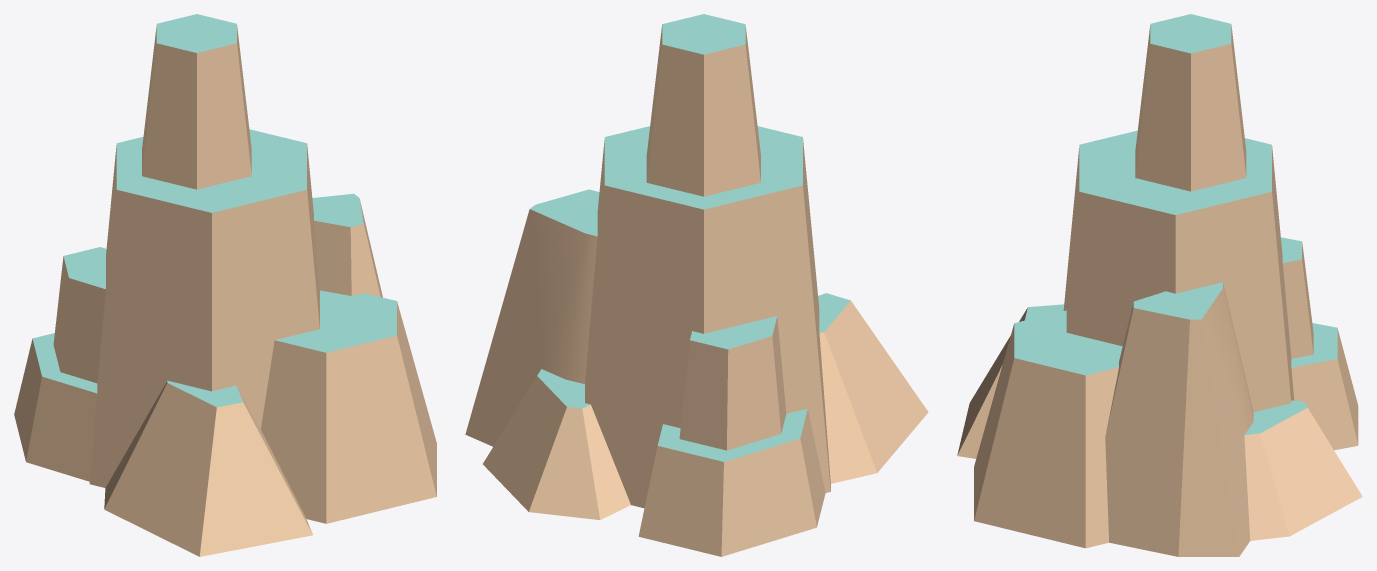
File: rock_tall2.glb
The picture shows the model from 3 angles, left to right: view 1: azimuth 30°, elevation 25°; view 2: azimuth 150°, elevation 25°; view 3: azimuth 270°, elevation 25°; orthographic projection. The views are drawn at different scales.
Visible parts, largest first — view 1: rock_tall2; view 2: rock_tall2; view 3: rock_tall2.
Part boxes in pixels (box(x1,y1,x2,y2)): rock_tall2: box(14, 14, 436, 556); rock_tall2: box(465, 14, 928, 556); rock_tall2: box(957, 14, 1362, 556).
Bounding box in the file's own units: 0.7648 × 0.8838 × 0.77.
